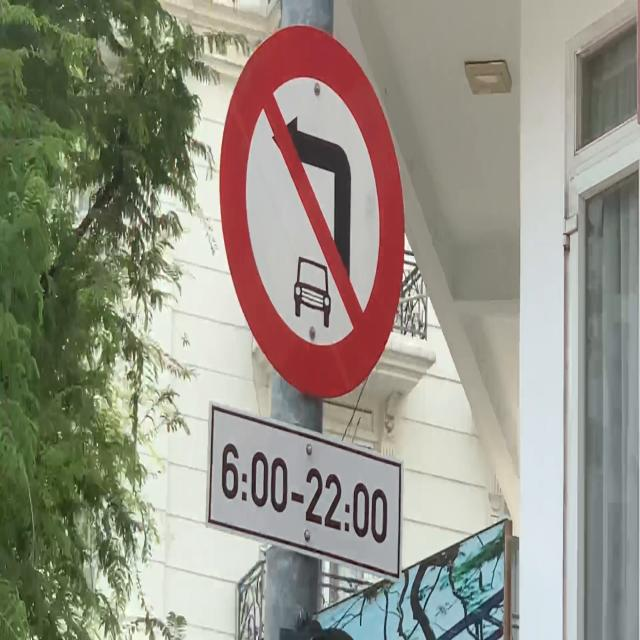Cam re trai: (218, 21, 406, 402)
